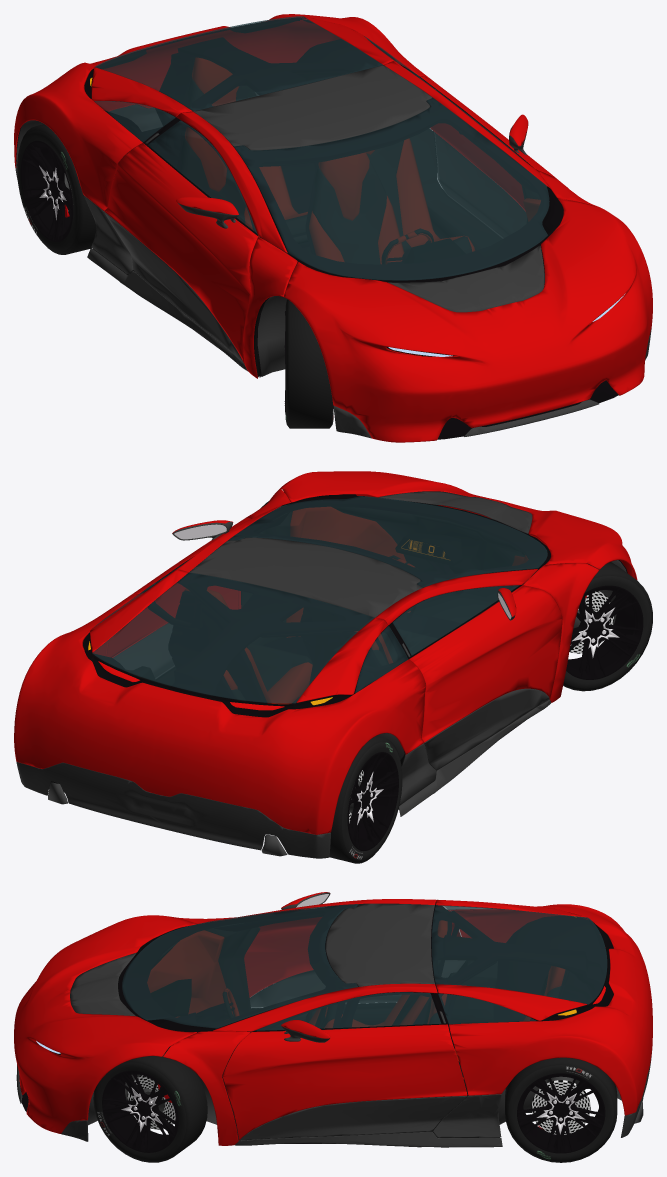
File: hero-coupe.glb
3 views of the same model, one above another, from view 1: azimuth 30°, elevation 25°; view 2: azimuth 150°, elevation 25°; view 3: azimuth 270°, elevation 25° (orthographic). The views are drawn at different scales.
Parts seen in each view (by area): view 1: object 10, object 2, object 9, object 3, object 5, object 7, WheelRearR, WheelFrontR, object 6, BodyUnderside, object 8; view 2: object 10, object 2, object 9, object 3, WheelFrontR, WheelRearR, object 4, object 5, object 7, object 8, object 6, BodyUnderside (+1 smaller); view 3: object 10, object 2, object 9, object 3, WheelFrontL, WheelRearL, object 5, object 6, BodyUnderside, object 7, object 8.
Part boxes in pixels (x1,y1,x2,y2): object 10: [14, 14, 652, 442]; object 2: [94, 16, 549, 280]; object 9: [15, 65, 651, 438]; object 3: [16, 17, 618, 439]; object 5: [185, 57, 541, 355]; object 7: [180, 78, 471, 264]; WheelRearR: [17, 124, 96, 254]; WheelFrontR: [284, 299, 333, 428]; object 6: [93, 128, 557, 376]; BodyUnderside: [16, 120, 287, 377]; object 8: [404, 238, 465, 263]; object 10: [14, 471, 637, 834]; object 2: [92, 496, 547, 703]; object 9: [16, 491, 550, 858]; object 3: [53, 494, 627, 783]; WheelFrontR: [563, 562, 652, 691]; WheelRearR: [329, 736, 402, 863]; object 4: [332, 502, 528, 623]; object 5: [184, 498, 528, 704]; object 7: [232, 628, 437, 701]; object 8: [395, 533, 462, 565]; object 6: [126, 510, 545, 808]; BodyUnderside: [48, 560, 626, 856]; object 10: [14, 892, 652, 1145]; object 2: [122, 904, 607, 1031]; object 9: [16, 892, 652, 1147]; object 3: [19, 901, 613, 1143]; WheelFrontL: [93, 1054, 207, 1162]; WheelRearL: [505, 1057, 617, 1162]; object 5: [147, 920, 564, 1079]; object 6: [205, 923, 499, 1143]; BodyUnderside: [87, 1072, 643, 1125]; object 7: [304, 960, 560, 1076]; object 8: [151, 979, 191, 1016].
Size of the model in its own units: 2.54 by 1.15 by 4.36.
Materials: 20 (5 with a texture image).
